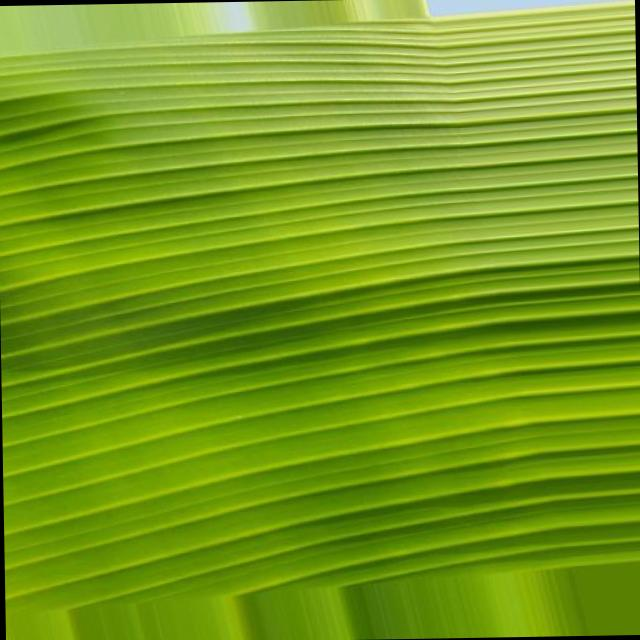Banana_Healthy: (103, 93, 561, 462)
